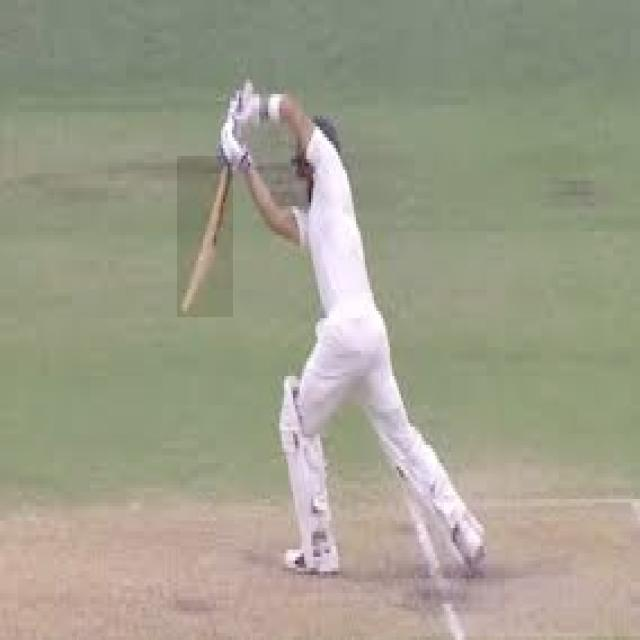bat: (179, 155, 235, 317)
toe: (173, 298, 201, 321)
